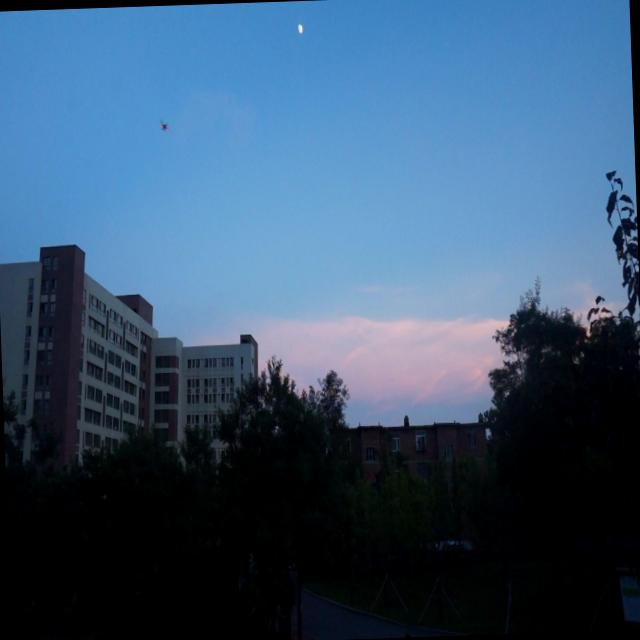drone: (156, 115, 172, 136)
